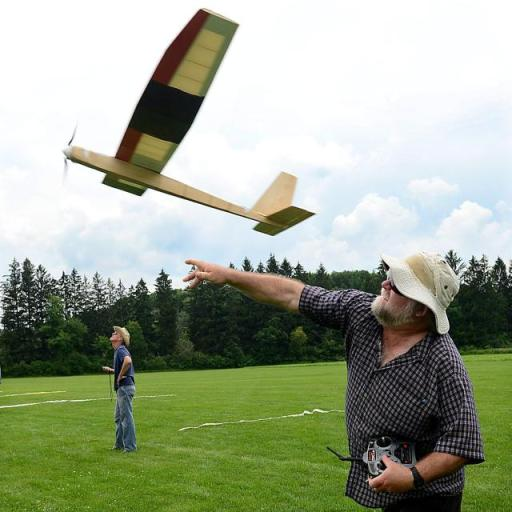uav: (60, 7, 321, 244)
